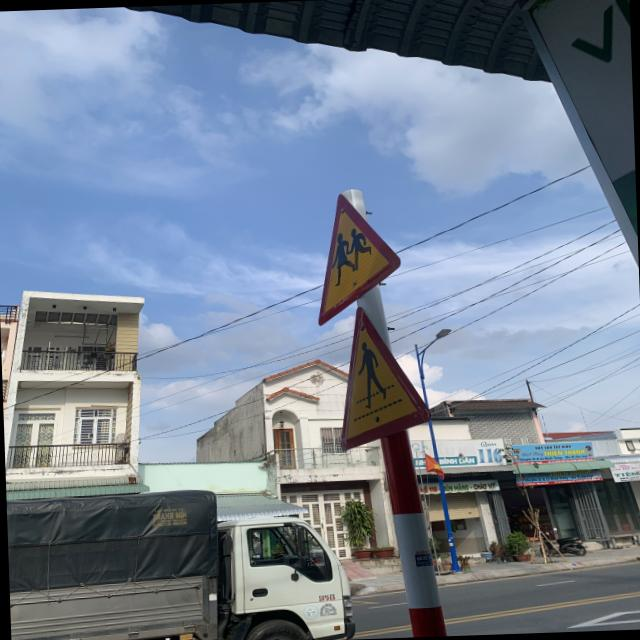Duong_Nguoi_Di_Bo_Sang_Ngang: (334, 302, 438, 451)
Vong_Xuyen: (311, 187, 404, 325)
